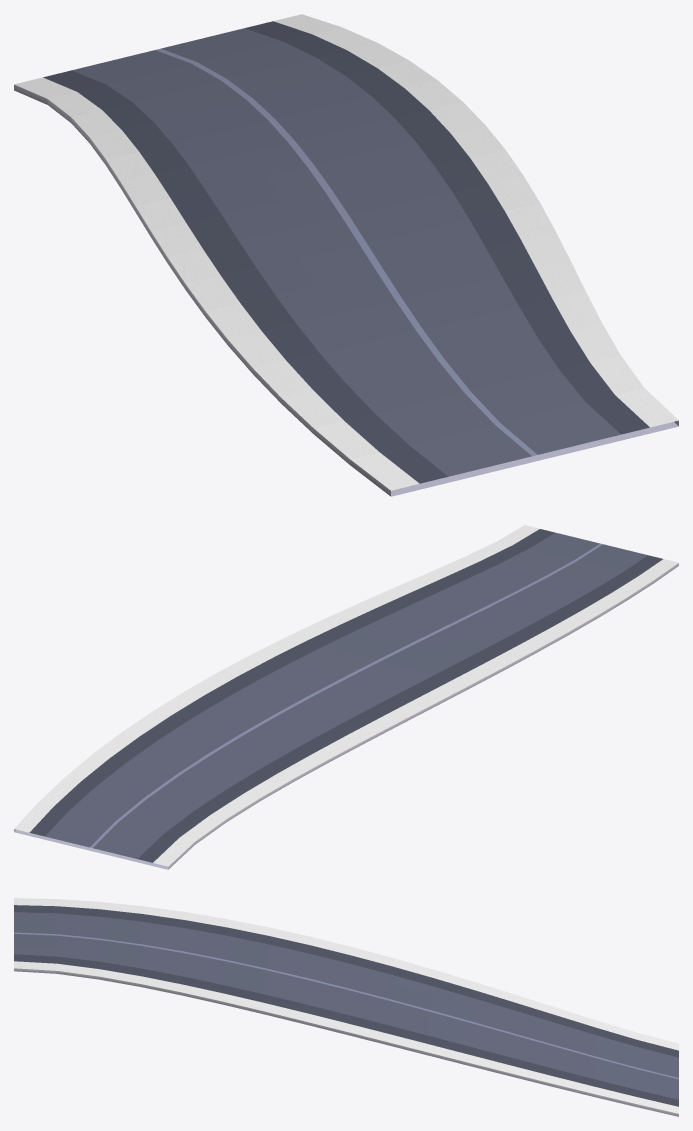
The model's file is road-Chicane-Flat-BiSlopeDown-Down2-Right1-Size4.glb.
The picture shows the model from 3 angles, top to bottom: view 1: azimuth 30°, elevation 25°; view 2: azimuth 150°, elevation 25°; view 3: azimuth 270°, elevation 25°; orthographic projection. The views are drawn at different scales.
Visible parts, largest first — view 1: road-Chicane-Flat-BiSlopeDown-Down2-Right1-Size4; view 2: road-Chicane-Flat-BiSlopeDown-Down2-Right1-Size4; view 3: road-Chicane-Flat-BiSlopeDown-Down2-Right1-Size4.
Boxes of the visible parts, x1=… form: road-Chicane-Flat-BiSlopeDown-Down2-Right1-Size4: x1=14, y1=14, x2=678, y2=496; road-Chicane-Flat-BiSlopeDown-Down2-Right1-Size4: x1=14, y1=525, x2=678, y2=869; road-Chicane-Flat-BiSlopeDown-Down2-Right1-Size4: x1=14, y1=898, x2=678, y2=1116.
Bounding box in the file's own units: 2 × 0.52 × 4.
Materials: 1 (1 with a texture image).
